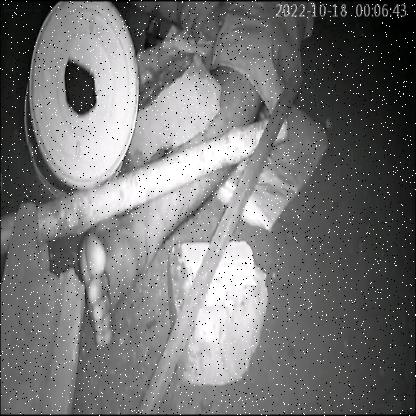leg: (67, 137, 199, 348)
